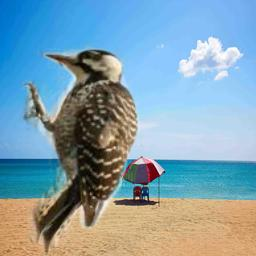Woodpecker: (20, 43, 140, 255)
